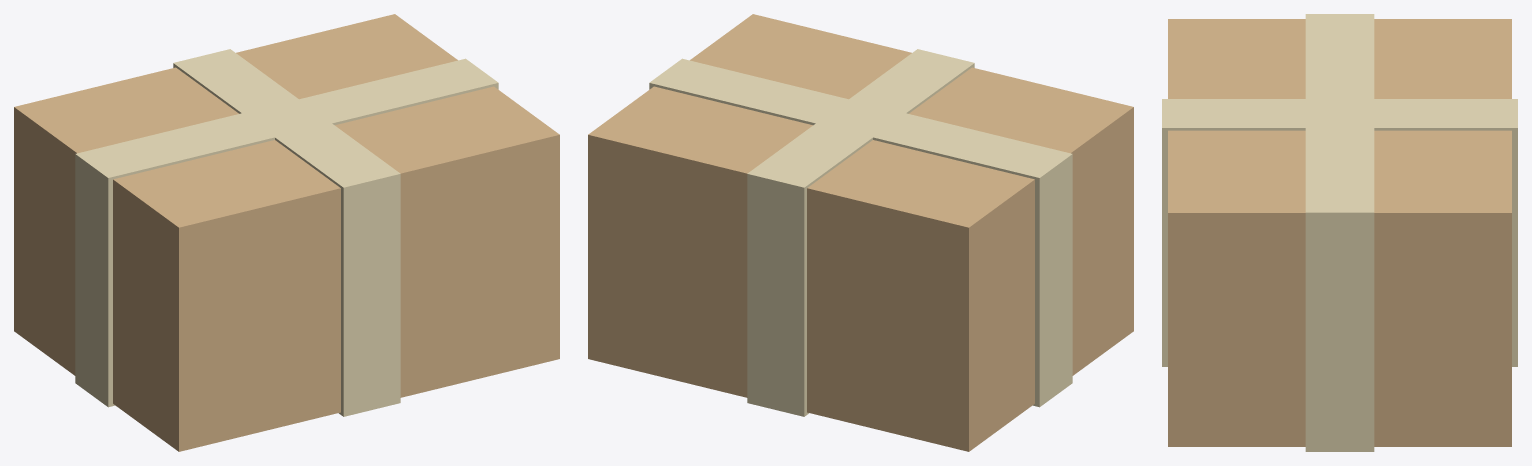
File: Basura_Papel_Paquete.fbx
3 views of the same model, side by side, from view 1: azimuth 30°, elevation 25°; view 2: azimuth 150°, elevation 25°; view 3: azimuth 270°, elevation 25° (orthographic). The views are drawn at different scales.
Visible parts, largest first — view 1: Basura_Papel_Paquete; view 2: Basura_Papel_Paquete; view 3: Basura_Papel_Paquete.
Boxes of the visible parts, box(x1,y1,x2,y2) form: Basura_Papel_Paquete: box(14, 14, 559, 451); Basura_Papel_Paquete: box(588, 14, 1133, 451); Basura_Papel_Paquete: box(1162, 14, 1517, 451).
Size of the model in its own units: 0.82 by 0.46 by 0.62.
Materials: 1 (1 with a texture image).
